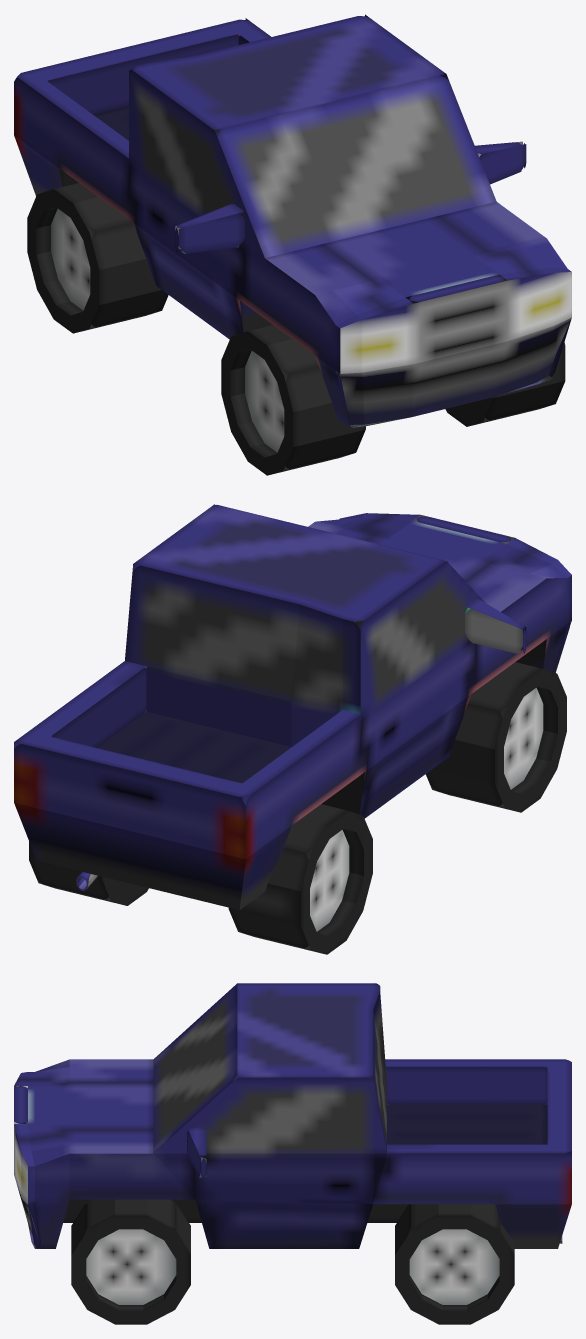
File: truck.fbx
3 views of the same model, one above another, from view 1: azimuth 30°, elevation 25°; view 2: azimuth 150°, elevation 25°; view 3: azimuth 270°, elevation 25° (orthographic). The views are drawn at different scales.
Visible parts, largest first — view 1: cuboid, cylinder_2, cylinder_1, cylinder, cuboid_2, cuboid_1; view 2: cuboid, cylinder_1, cylinder_2, cylinder_3, cuboid_2; view 3: cuboid, cylinder, cylinder_3, cuboid_1.
Boxes of the visible parts, <box> form: cuboid: <box>14,14,571,427</box>; cylinder_2: <box>27,183,168,333</box>; cylinder_1: <box>221,325,365,475</box>; cylinder: <box>445,342,565,426</box>; cuboid_2: <box>175,204,244,253</box>; cuboid_1: <box>475,141,526,184</box>; cuboid: <box>14,504,571,909</box>; cylinder_1: <box>425,662,566,812</box>; cylinder_2: <box>228,804,372,954</box>; cylinder_3: <box>29,841,148,905</box>; cuboid_2: <box>465,598,526,653</box>; cuboid: <box>14,983,571,1248</box>; cylinder: <box>71,1199,190,1324</box>; cylinder_3: <box>395,1204,514,1324</box>; cuboid_1: <box>187,1127,206,1179</box>.
Bounding box in the file's own units: 150 × 118 × 250.
Materials: 1 (1 with a texture image).
